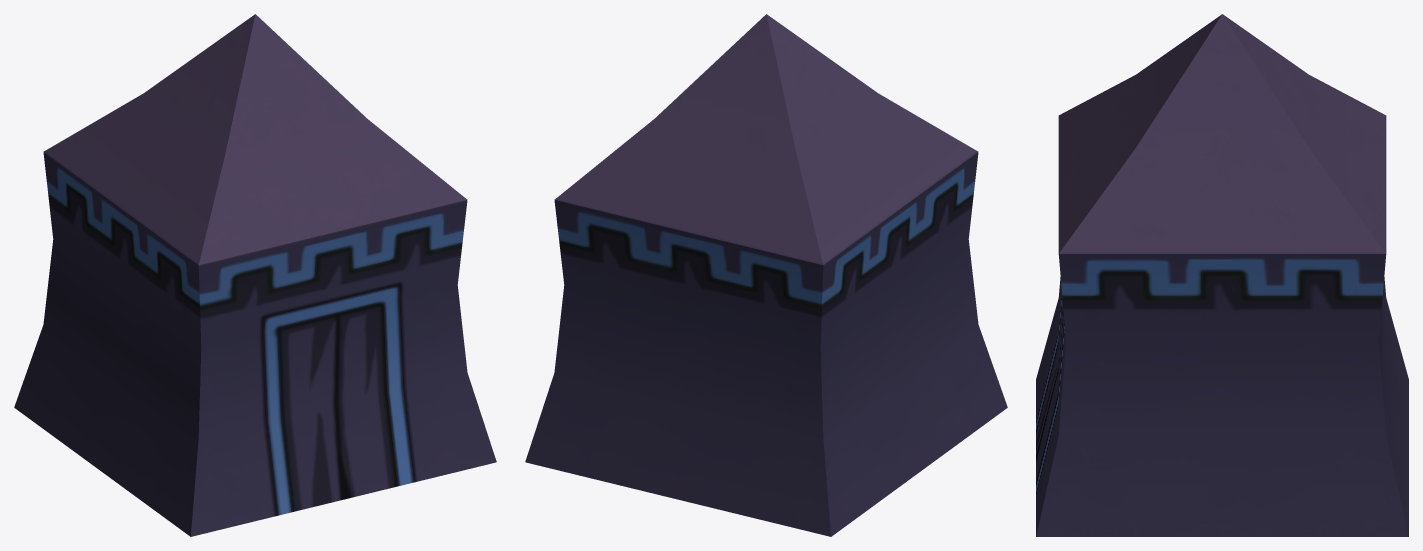
File: arena_8.FBX
The picture shows the model from 3 angles, left to right: view 1: azimuth 30°, elevation 25°; view 2: azimuth 150°, elevation 25°; view 3: azimuth 270°, elevation 25°; orthographic projection. The views are drawn at different scales.
Visible parts, largest first — view 1: Box010; view 2: Box010; view 3: Box010.
Part boxes in pixels (x1,y1,x2,y2): Box010: (14, 14, 496, 536); Box010: (525, 14, 1007, 536); Box010: (1036, 14, 1408, 536).
Bounding box in the file's own units: 389 × 512 × 389.
